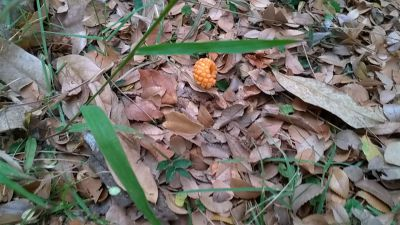eggs: (191, 56, 221, 90)
